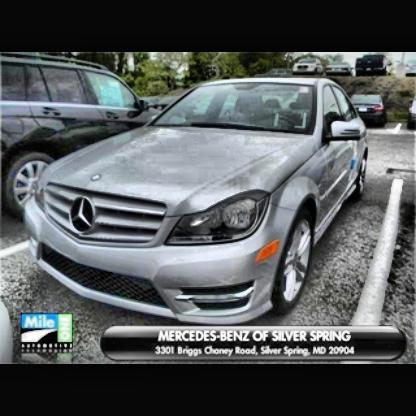Mercedes-Benz C-Class Sedan 2012: (26, 79, 373, 328)
